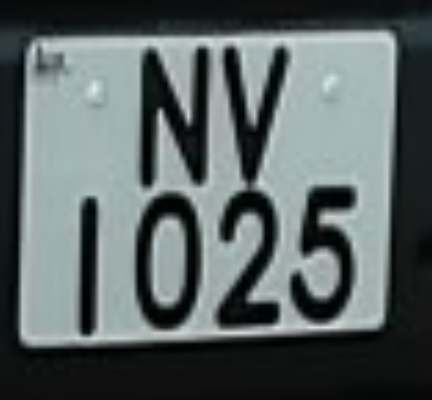0: (119, 185, 214, 341)
1: (50, 178, 117, 346)
2: (202, 183, 294, 336)
5: (280, 173, 368, 325)
N: (124, 32, 224, 198)
V: (216, 36, 298, 189)
